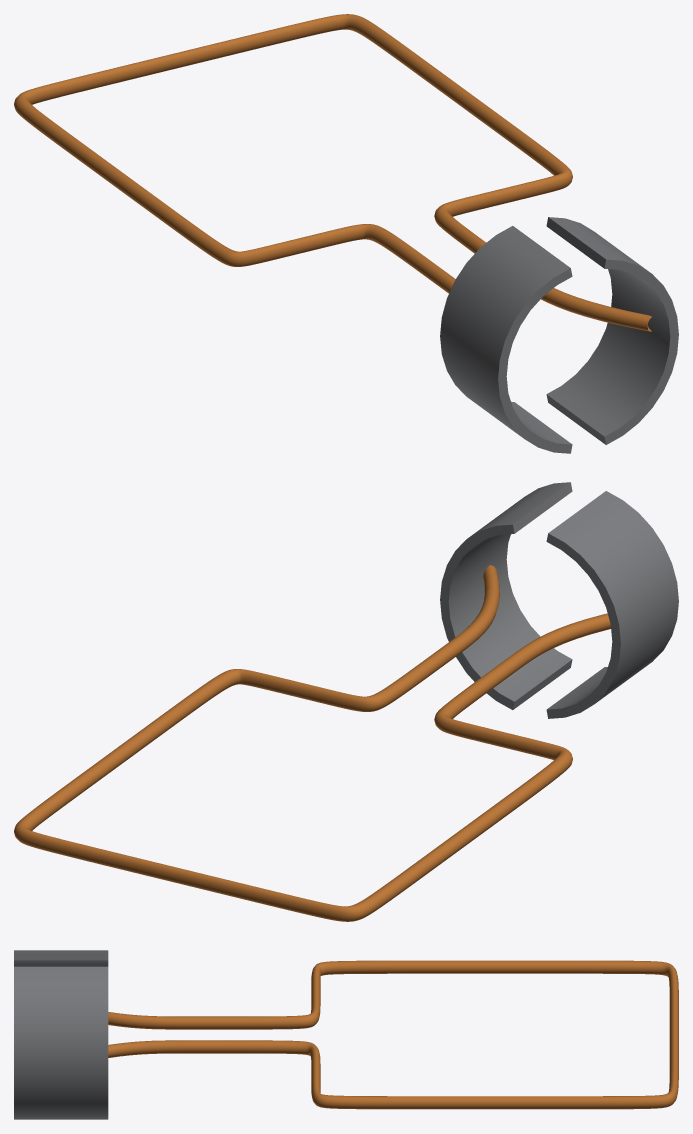
Rendered from DCcoil4.glb.
3 views of the same model, one above another, from view 1: azimuth 30°, elevation 25°; view 2: azimuth 150°, elevation 25°; view 3: azimuth 270°, elevation 25° (orthographic). The views are drawn at different scales.
Visible parts, largest first — view 1: NURBSパス.006, 円柱.003, 円柱.001; view 2: NURBSパス.006, 円柱.003, 円柱.001; view 3: NURBSパス.006, 円柱.001, 円柱.003.
Part boxes in pixels (bbox=[...]): NURBSパス.006: bbox=[14, 14, 651, 331]; 円柱.003: bbox=[440, 226, 572, 453]; 円柱.001: bbox=[546, 217, 678, 444]; NURBSパス.006: bbox=[14, 565, 610, 921]; 円柱.003: bbox=[546, 491, 678, 718]; 円柱.001: bbox=[440, 482, 572, 709]; NURBSパス.006: bbox=[108, 960, 678, 1109]; 円柱.001: bbox=[14, 966, 108, 1119]; 円柱.003: bbox=[14, 950, 108, 966].
Size of the model in its own units: 3.54 by 1.77 by 7.05.
